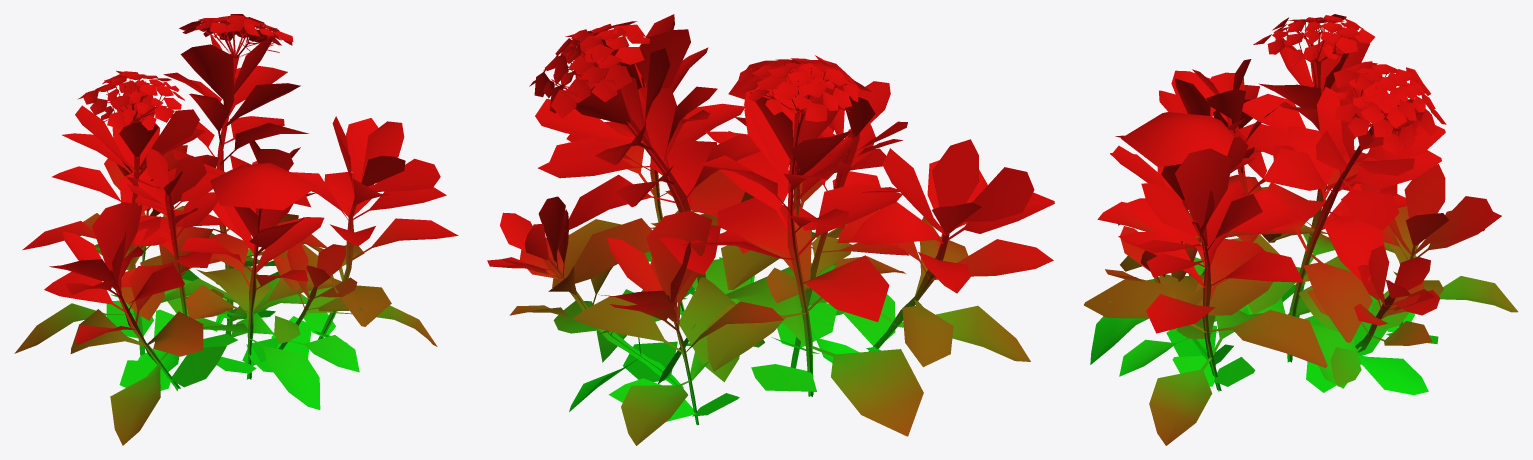
The model's file is Var6_LOD4.fbx.
3 renders of one model, left to right at view 1: azimuth 30°, elevation 25°; view 2: azimuth 150°, elevation 25°; view 3: azimuth 270°, elevation 25°, orthographic. The views are drawn at different scales.
Parts seen in each view (by area): view 1: _ujlq_Var6_LOD4; view 2: _ujlq_Var6_LOD4; view 3: _ujlq_Var6_LOD4.
Part boxes in pixels (box(x1,y1,x2,y2)): _ujlq_Var6_LOD4: box(14, 14, 458, 445); _ujlq_Var6_LOD4: box(487, 14, 1054, 445); _ujlq_Var6_LOD4: box(1084, 14, 1518, 445).
Size of the model in its own units: 78.46 by 56.87 by 69.82.
